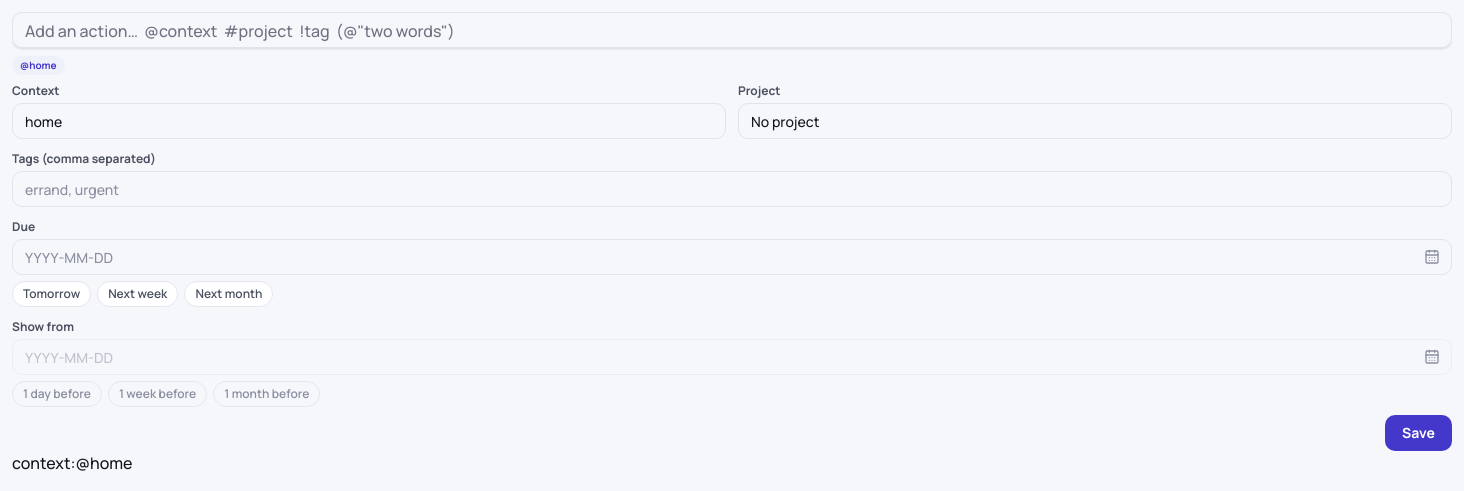
Test: clearing a field in one tap › empties the description and leaves the caret in it
The image size is (1464, 491).
Expected: the list item "context:@home" is shown, top-left (12, 452), bottom-right (132, 474)
Step 1. Click the field named "Add an action" → (732, 30), box top-left (13, 13), bottom-right (1451, 47)
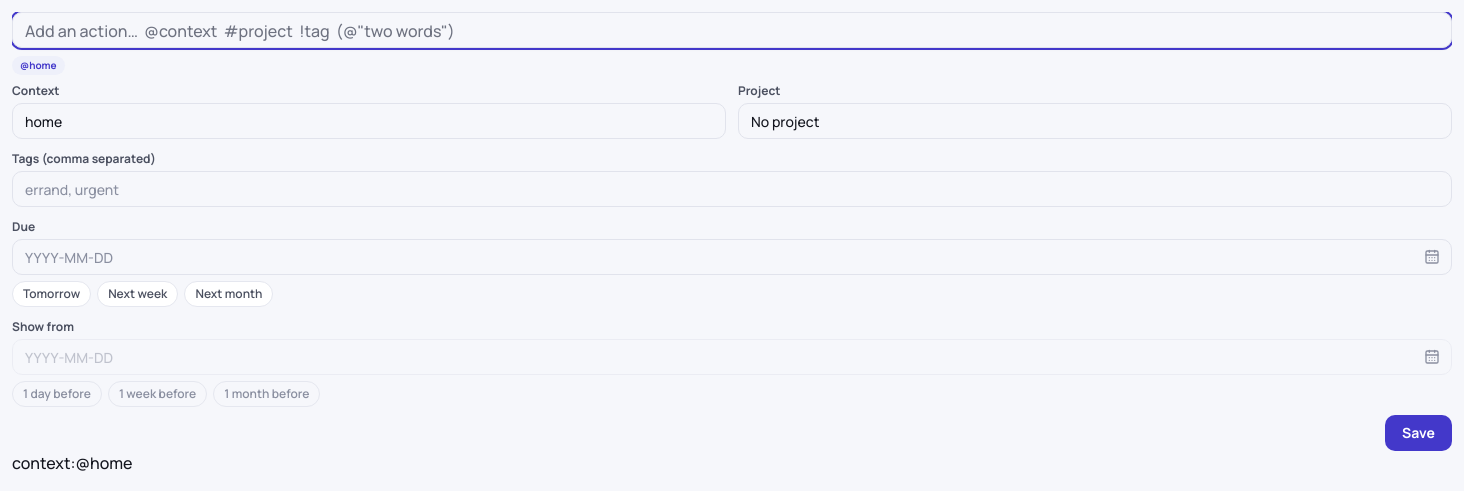
Step 2. Type keys "buy milk"
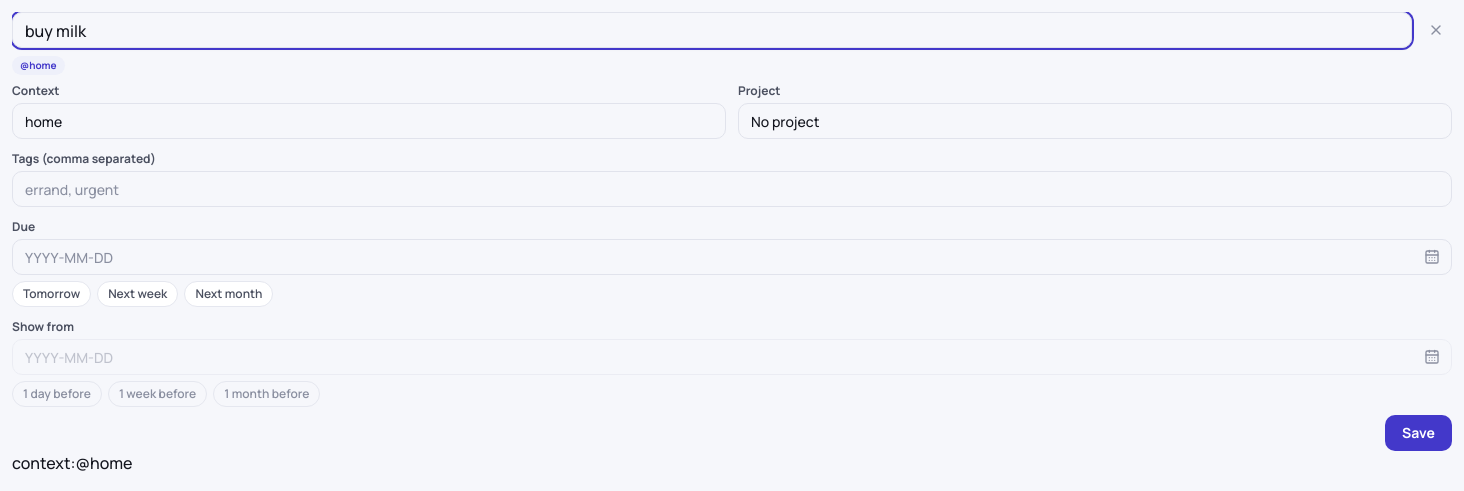
Step 3. Click the button named "Clear the description" → (1436, 30), box top-left (1420, 14), bottom-right (1452, 46)
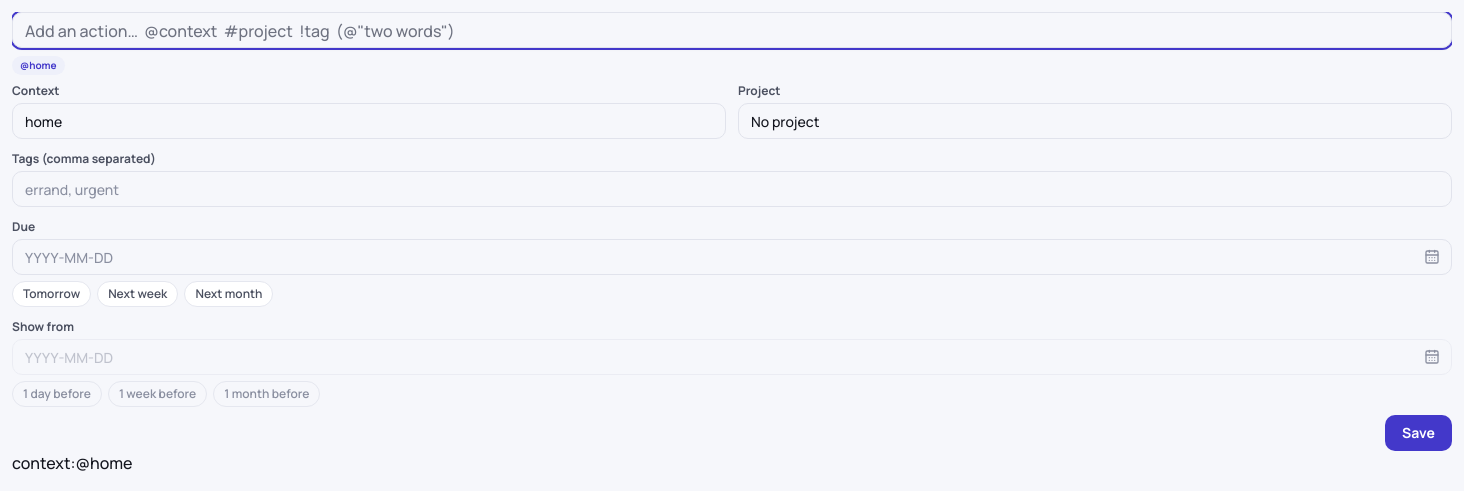
Result: the field named "Add an action" is empty at top-left (13, 13), bottom-right (1451, 47)
